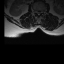CCS_normal: (38, 9, 39, 17)
LFS_stenosis: (41, 9, 43, 14)
LLS_stenosis: (40, 9, 41, 15)
RFS_normal: (34, 9, 36, 14)
RLS_normal: (36, 9, 38, 15)
